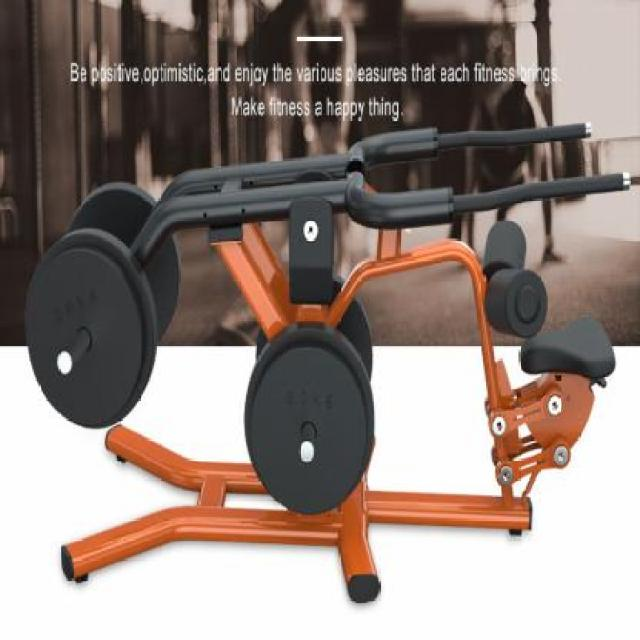seated dip machine: (26, 121, 631, 604)
